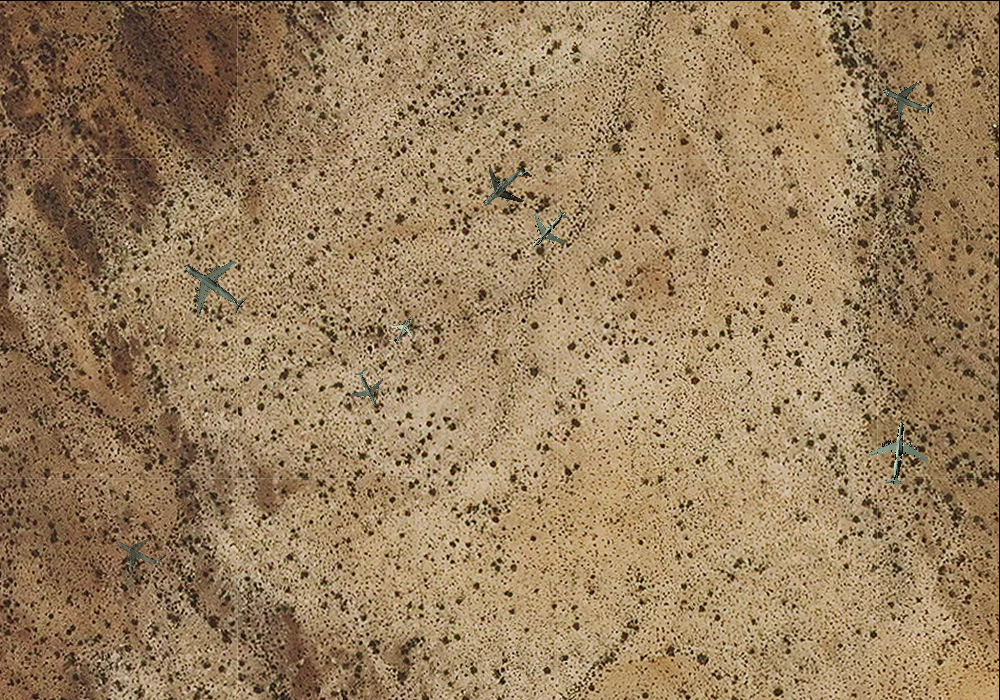plane: (164, 238, 261, 334), (465, 147, 544, 226), (872, 65, 942, 133), (864, 418, 931, 488), (106, 520, 171, 584), (516, 197, 580, 261), (342, 362, 393, 414), (382, 309, 421, 350)
